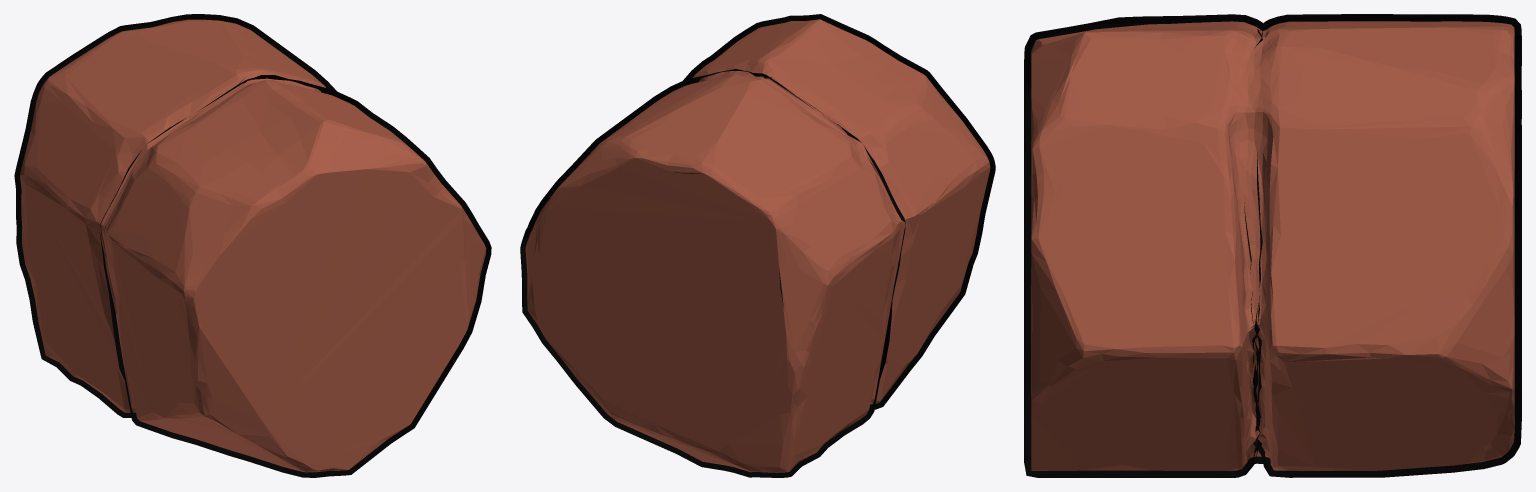
File: rock_1.glb
3 views of the same model, side by side, from view 1: azimuth 30°, elevation 25°; view 2: azimuth 150°, elevation 25°; view 3: azimuth 270°, elevation 25° (orthographic). The views are drawn at different scales.
Parts seen in each view (by area): view 1: rock_1; view 2: rock_1; view 3: rock_1.
Boxes of the visible parts, x1,y1,x2,y2 form: rock_1: (14, 14, 491, 477); rock_1: (520, 14, 995, 477); rock_1: (1024, 14, 1521, 477).
Size of the model in its own units: 6.18 by 6.18 by 6.18.
